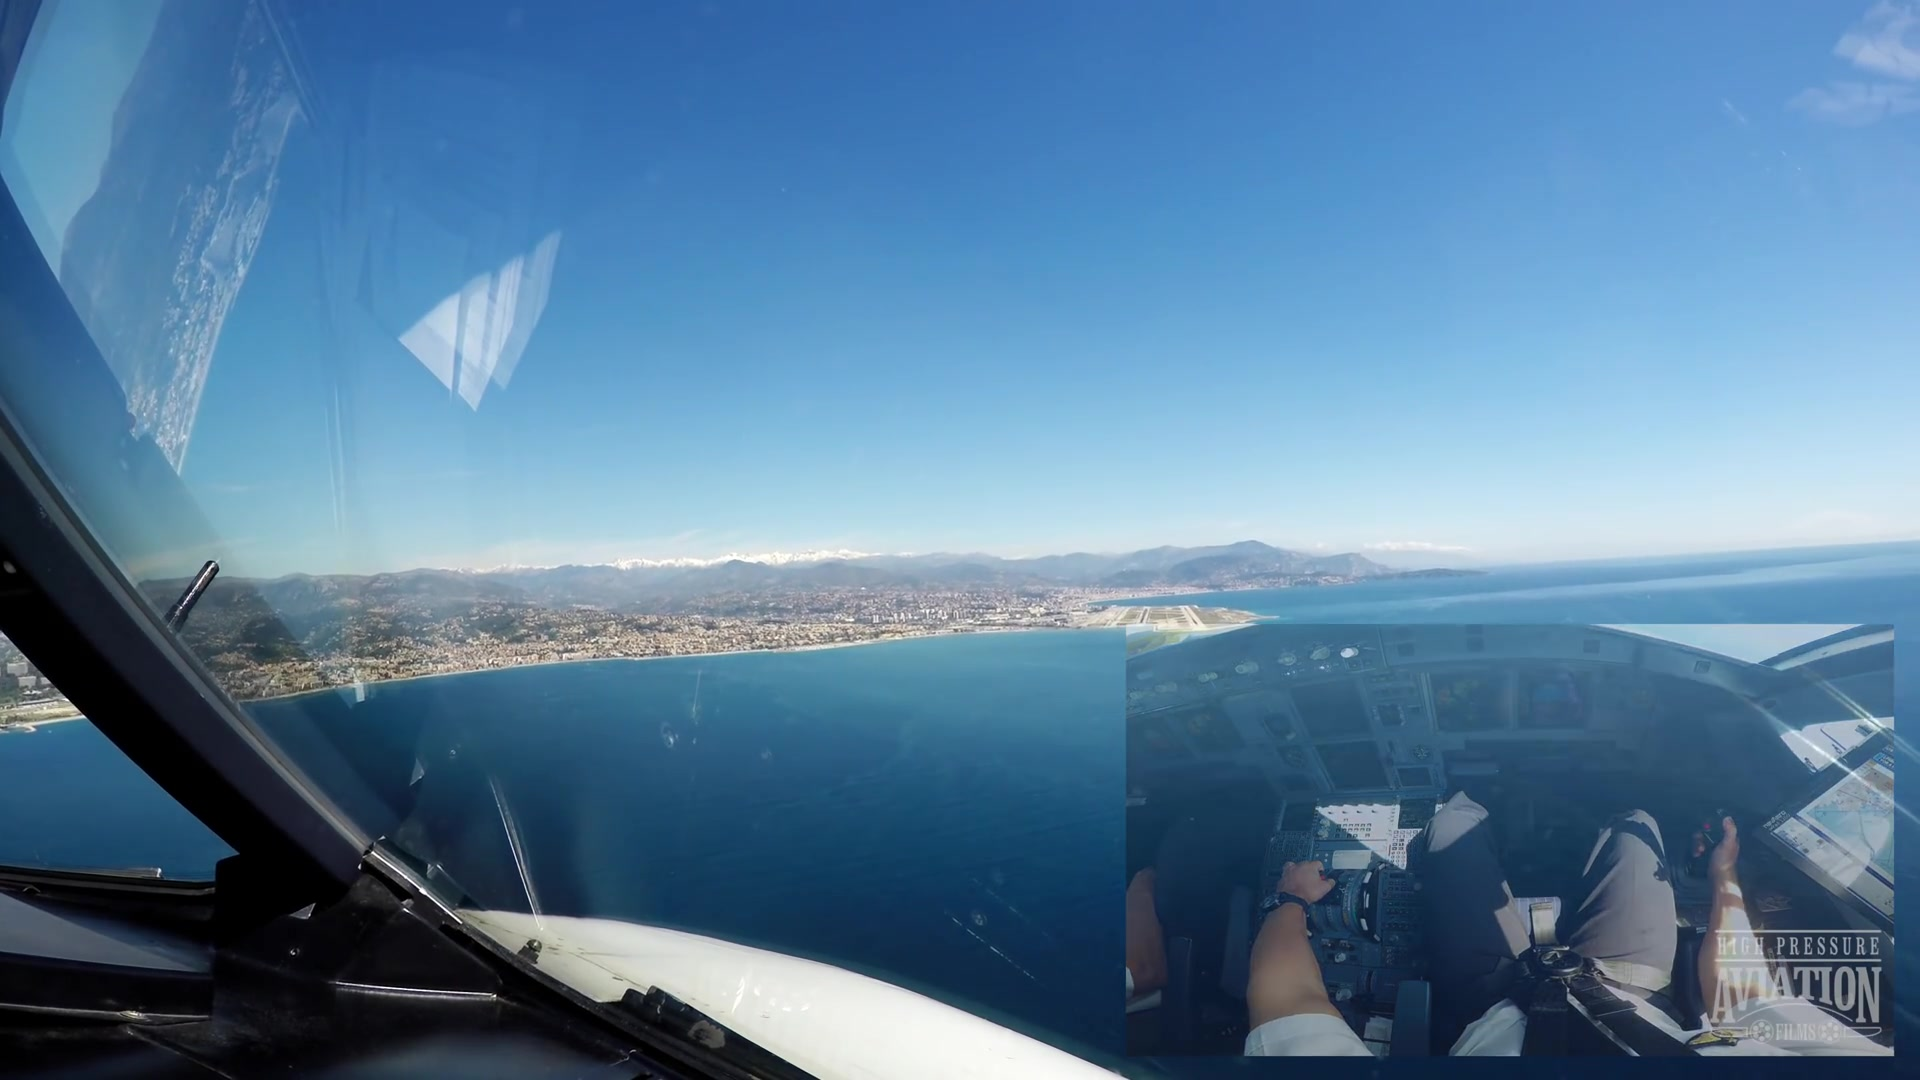runway: (1178, 605, 1207, 630), (1135, 605, 1151, 626)
